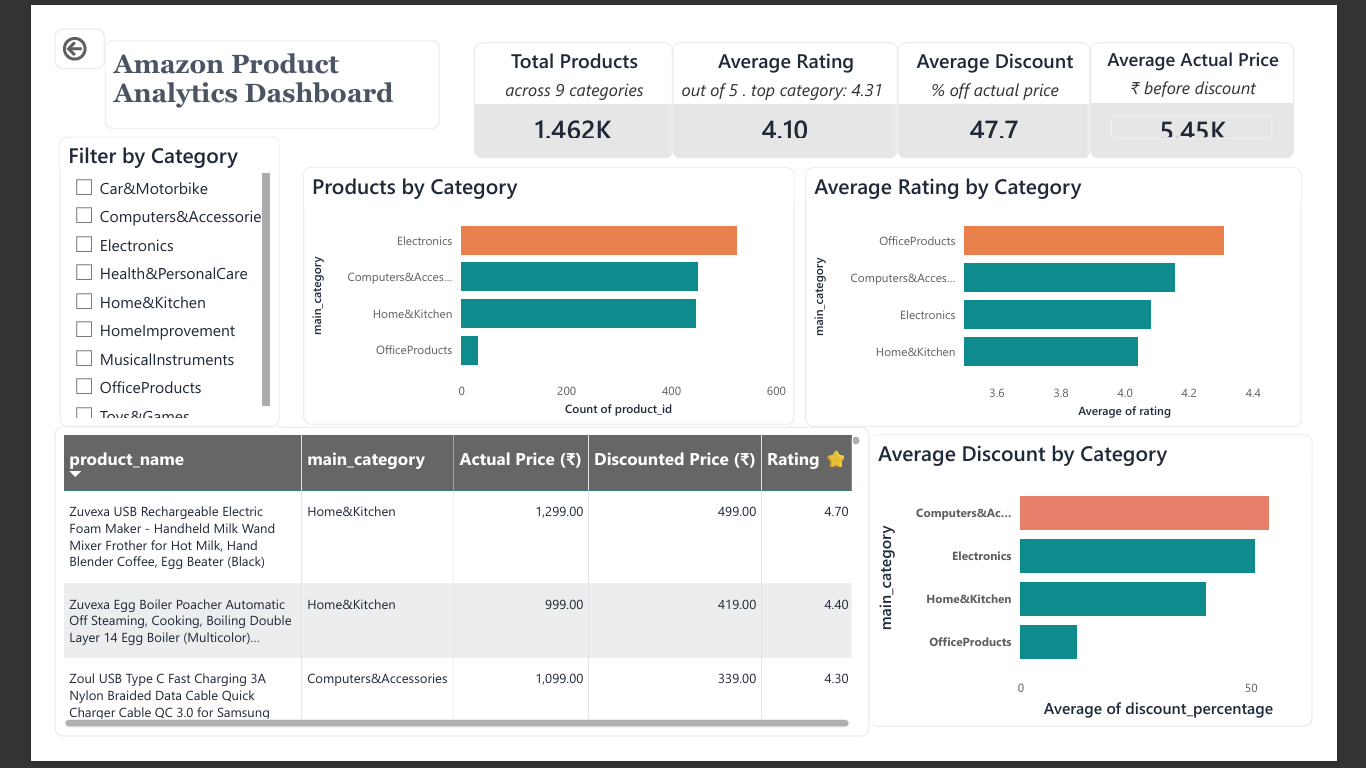

The dashboard page shown, as its layout file describes it:
{"tool":"powerbi","page":{"name":"Page 1","canvas":[1280,720],"ordinal":0},"visuals":[{"type":"cardVisual","title":"Total Products","fields":{"Data":["CountNonNull(amazon_cleaned.product_id)"]},"box":[456.9,12.1,201.2,118],"z":0},{"type":"cardVisual","title":"Average Rating","fields":{"Data":["Avg(amazon_cleaned.rating)"]},"box":[671.7,12.1,184.6,118],"z":1000},{"type":"cardVisual","title":"Average Discount ","fields":{"Data":["Avg(amazon_cleaned.discount_percentage)"]},"box":[857.8,12.1,196.7,118],"z":2000},{"type":"cardVisual","title":"Average Actual Price","fields":{"Data":["Avg(amazon_cleaned.actual_price)"]},"box":[1054.5,12.1,225.4,118],"z":3000},{"type":"clusteredBarChart","title":"Products by Category","fields":{"Y":["CountNonNull(amazon_cleaned.product_id)"],"Category":["amazon_cleaned.main_category"]},"box":[245.1,131.6,500.8,263.2],"z":4000},{"type":"clusteredBarChart","title":"Average Rating by Category","fields":{"Category":["amazon_cleaned.main_category"],"Y":["Avg(amazon_cleaned.rating)"]},"box":[764,130.1,505.3,264.8],"z":5000},{"type":"clusteredBarChart","title":"Average Discount by Category","fields":{"Category":["amazon_cleaned.main_category"],"Y":["Avg(amazon_cleaned.discount_percentage)"]},"box":[829.1,413,450.8,296.5],"z":6000},{"type":"tableEx","fields":{"Values":["amazon_cleaned.product_name","amazon_cleaned.main_category","amazon_cleaned.actual_price","amazon_cleaned.discounted_price","amazon_cleaned.rating"]},"box":[0,413,801.8,296.5],"z":7000},{"type":"slicer","title":"Filter by Category ","fields":{"Values":["amazon_cleaned.main_category"]},"box":[4.5,110.4,223.9,305.6],"z":8000},{"type":"textbox","box":[4.5,12.1,340.4,89.3],"z":9000}]}

Visuals, with their boxes in screenshot pixels (x1, y1, x2, y2), scaled from the page's 1280x720 canvas onto the 1366x768 screenshot:
"Total Products" cardVisual: box=[488, 13, 702, 139]
"Average Rating" cardVisual: box=[717, 13, 914, 139]
"Average Discount " cardVisual: box=[915, 13, 1125, 139]
"Average Actual Price" cardVisual: box=[1125, 13, 1365, 139]
"Products by Category" clusteredBarChart: box=[262, 140, 796, 421]
"Average Rating by Category" clusteredBarChart: box=[815, 139, 1355, 421]
"Average Discount by Category" clusteredBarChart: box=[885, 441, 1365, 757]
tableEx - amazon_cleaned.product_name x amazon_cleaned.main_category: box=[0, 441, 856, 757]
"Filter by Category " slicer: box=[5, 118, 244, 444]
textbox: box=[5, 13, 368, 108]
